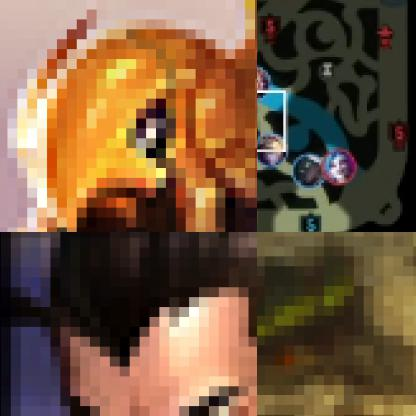Azir: (0, 0, 256, 231)
Ezreal: (257, 134, 287, 169)
Ivern: (257, 232, 415, 415)
Jinx: (322, 148, 357, 184)
Leblanc: (257, 66, 274, 100)
Senna: (292, 154, 325, 187)
Xin Zhao: (0, 232, 256, 415)
